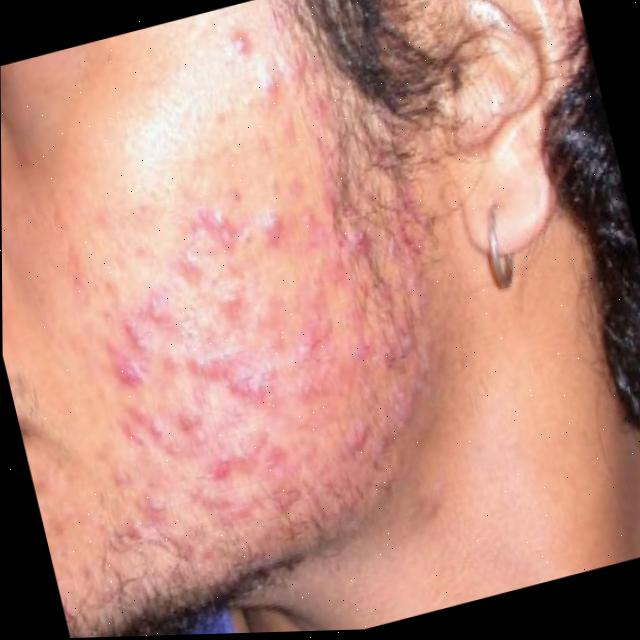Acne: (43, 91, 481, 557)
